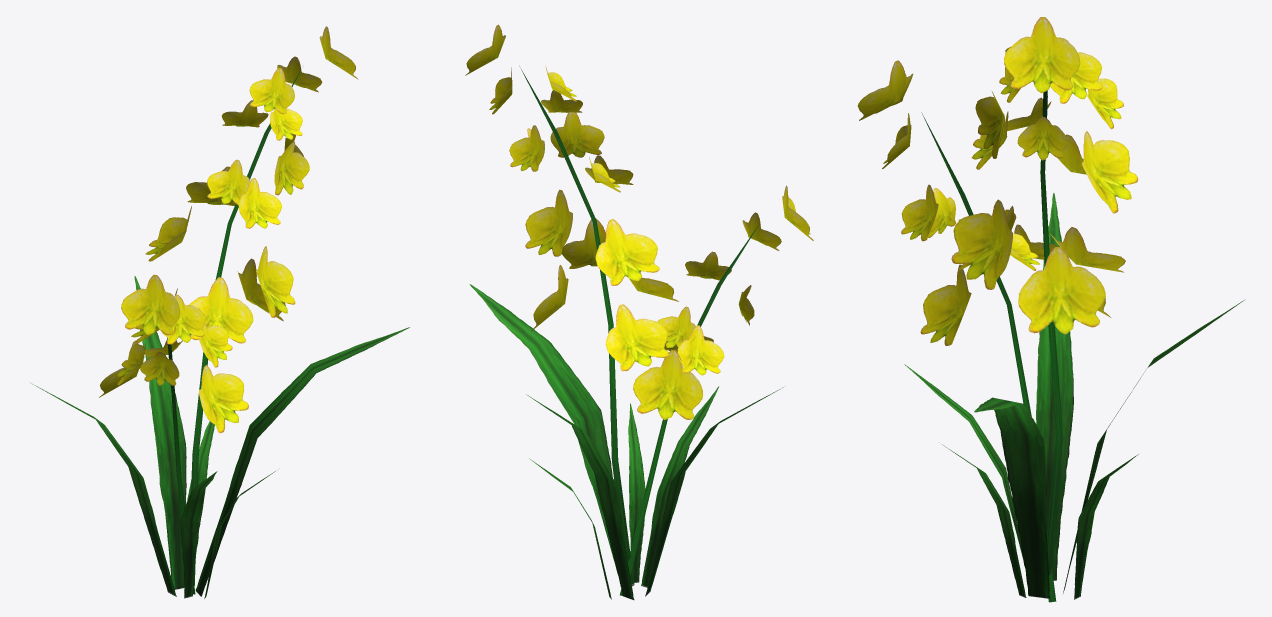
The model's file is TKZC_Cao_02.fbx.
3 views of the same model, side by side, from view 1: azimuth 30°, elevation 25°; view 2: azimuth 150°, elevation 25°; view 3: azimuth 270°, elevation 25° (orthographic). The views are drawn at different scales.
Parts seen in each view (by area): view 1: TKZC_Cao_02; view 2: TKZC_Cao_02; view 3: TKZC_Cao_02.
Part boxes in pixels (x1=…): TKZC_Cao_02: x1=31, y1=26, x2=409, y2=598; TKZC_Cao_02: x1=465, y1=24, x2=813, y2=600; TKZC_Cao_02: x1=857, y1=17, x2=1245, y2=602.
Bounding box in the file's own units: 1.29 × 1.82 × 1.02.
